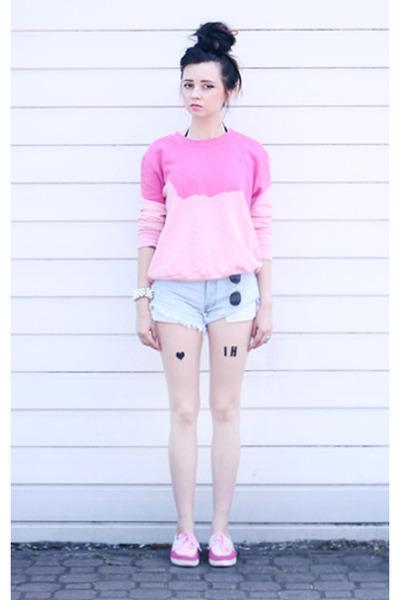shirt: (137, 130, 279, 279)
shoe: (171, 548, 235, 565)
shorts: (150, 274, 260, 329)
